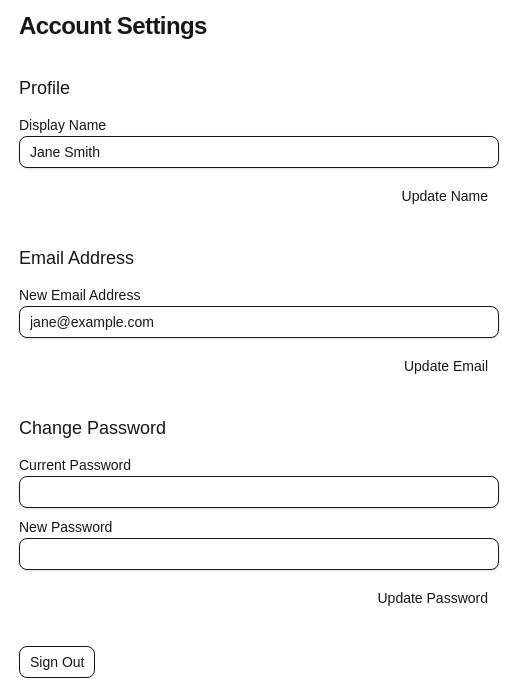
Test: UserProfileView › error handling › does not clear password fields on failed password update
Type "oldPass" into the password field labelled "Current Password" at (259, 492), box [19, 476, 499, 508]
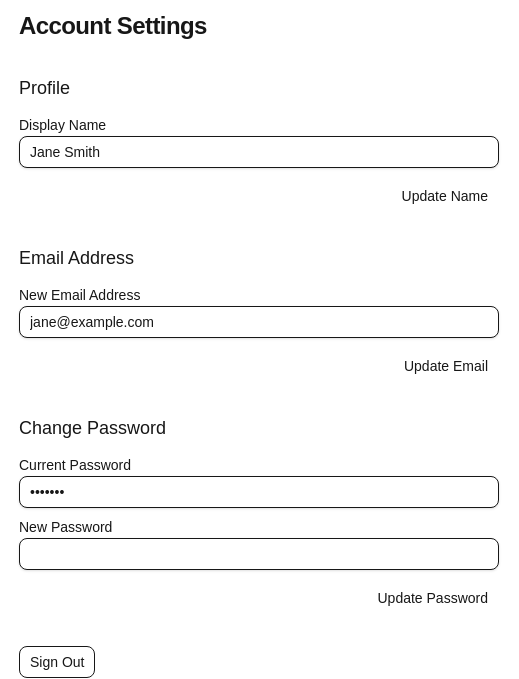
Type "newPass" into the password field labelled "New Password" at (259, 554), box [19, 538, 499, 570]
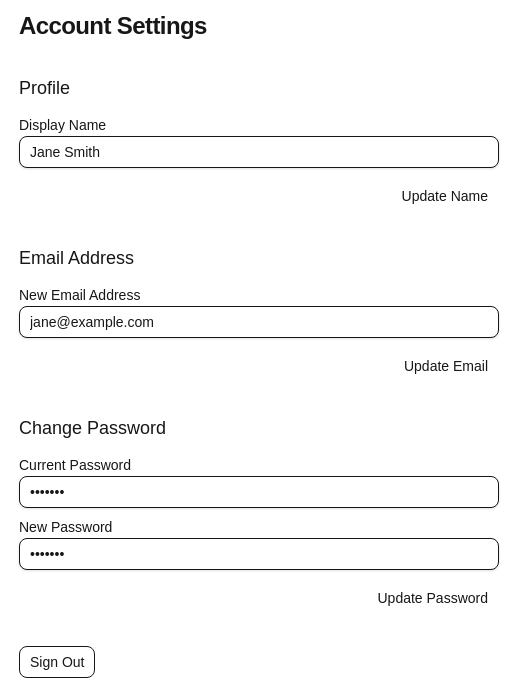
Submit the form labelled "Current Password", box [19, 458, 499, 614]
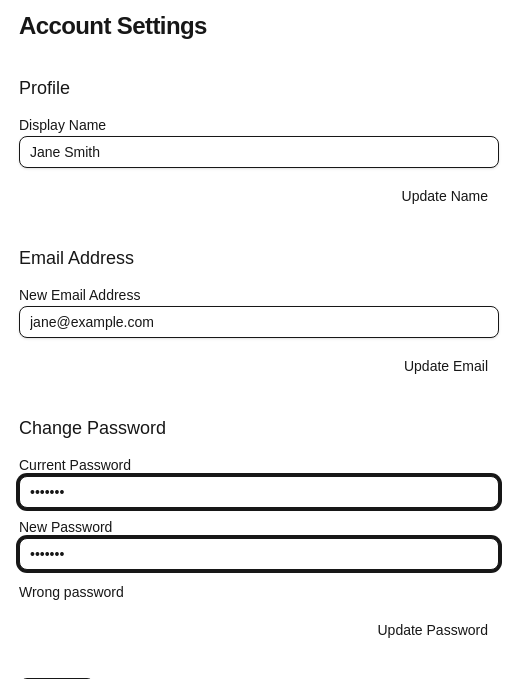
Result: the text "Wrong password" is shown at [19, 584, 124, 600]
